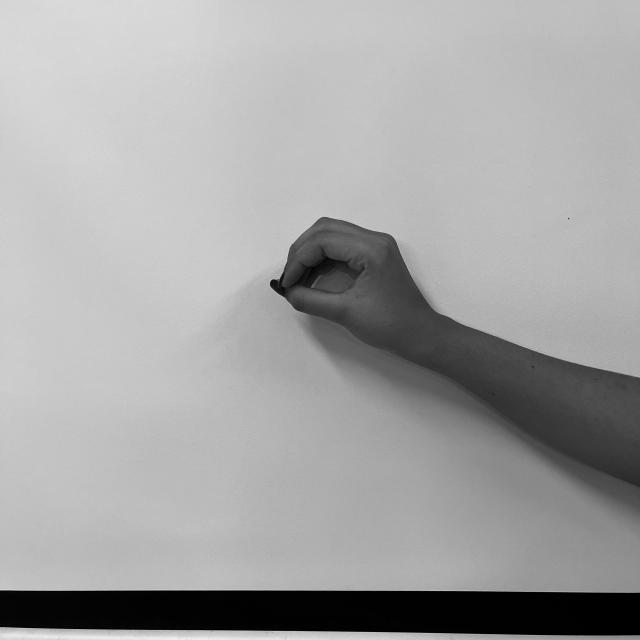Letra O: (265, 212, 431, 350)
